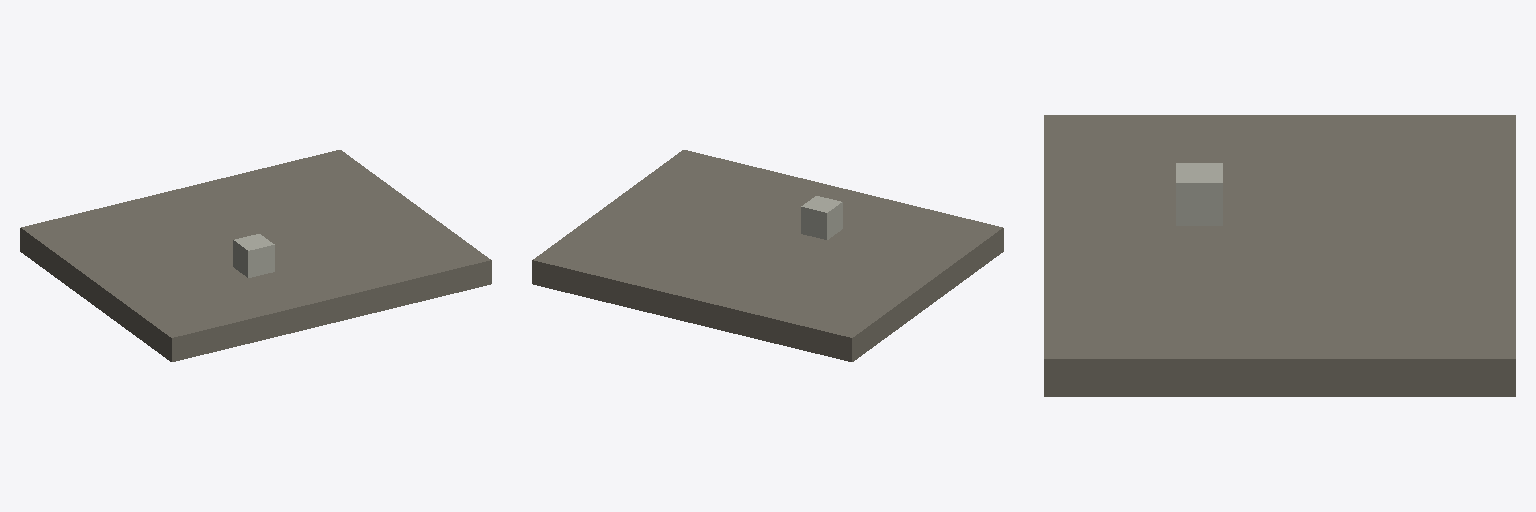
The robot description file, URDF, robot "parttoolgen_hammer_single_cube":
<?xml version="1.0"?>
<robot name="parttoolgen_hammer_single_cube">
  <link name="table_with_target_cube">
    <visual>
      <material name="wood">
        <color rgba="0.52 0.50 0.46 1.0"/>
      </material>
      <origin xyz="0 0 0"/>
      <geometry>
        <box size="0.55 0.45 0.04"/>
      </geometry>
    </visual>
    <collision>
      <origin xyz="0 0 0"/>
      <geometry>
        <box size="0.55 0.45 0.04"/>
      </geometry>
    </collision>

    <visual>
      <material name="target_cube">
        <color rgba="0.72 0.72 0.68 1.0"/>
      </material>
      <origin xyz="-0.04806942025776441 -0.07730347246924253 0.042499999999999996"/>
      <geometry>
        <box size="0.045 0.045 0.045"/>
      </geometry>
    </visual>
    <collision>
      <origin xyz="-0.04806942025776441 -0.07730347246924253 0.042499999999999996"/>
      <geometry>
        <box size="0.045 0.045 0.045"/>
      </geometry>
    </collision>

    <inertial>
      <mass value="500"/>
      <friction value="1.0"/>
      <inertia ixx="1000.0" ixy="0.0" ixz="0.0" iyy="1000.0" iyz="0.0" izz="1000.0"/>
    </inertial>
  </link>
</robot>

--- What the picture shows (computed from the rendered views, not written in the file) ---
3 views of the same robot in one strip: view 1: azimuth 30°, elevation 25°; view 2: azimuth 150°, elevation 25°; view 3: azimuth 270°, elevation 25° (orthographic).
Robot: parttoolgen_hammer_single_cube — 1 links, 0 joints (none); root link table_with_target_cube; default pose: every joint at zero.
Visible links, largest first — view 1: table_with_target_cube; view 2: table_with_target_cube; view 3: table_with_target_cube.
Link boxes in pixels (x1,y1,x2,y2): table_with_target_cube: (20,150,491,361); table_with_target_cube: (532,150,1003,361); table_with_target_cube: (1044,115,1515,396).
Size in the robot's own frame: 0.55 by 0.45 by 0.085 metres.
Geometry: primitives only (box / cylinder / sphere), no mesh files.
